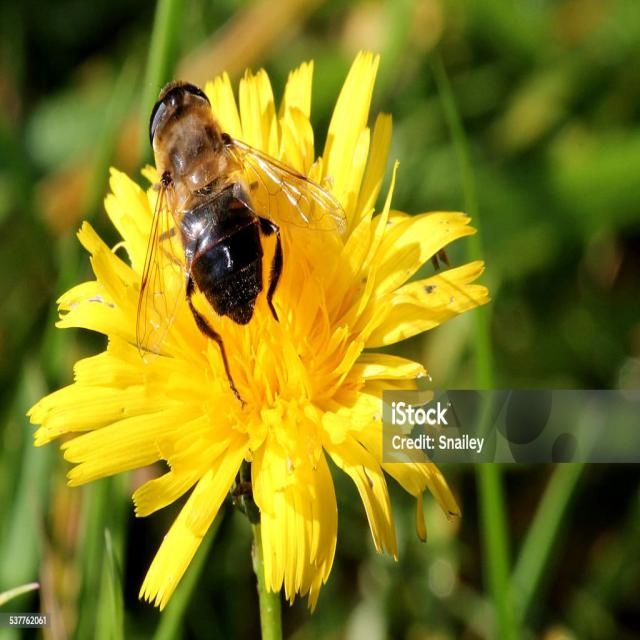hoverfly: (134, 77, 348, 407)
